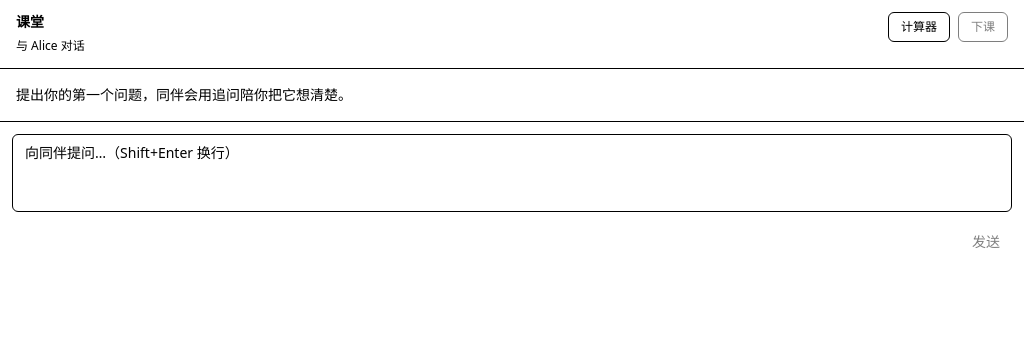
Test case: ChatPanel › creates the conversation and persists the user message before streaming
Type "什么是惯性？" into the text box named "Message".
click(512, 173); type("什么是惯性？")  # box [12,134,1012,212]
Then press Enter
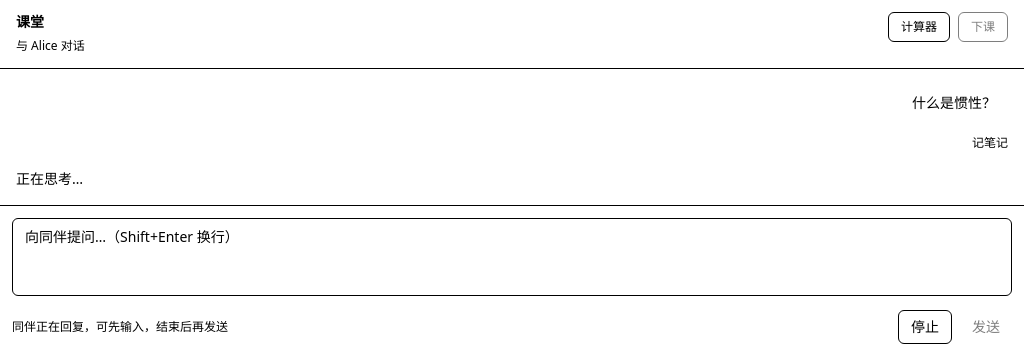
Result: the text "什么是惯性？" is shown at [912,93,996,112]
